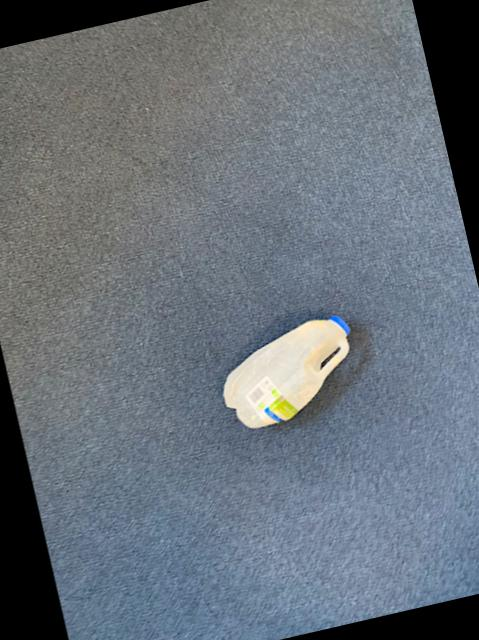plastic: (223, 314, 349, 425)
